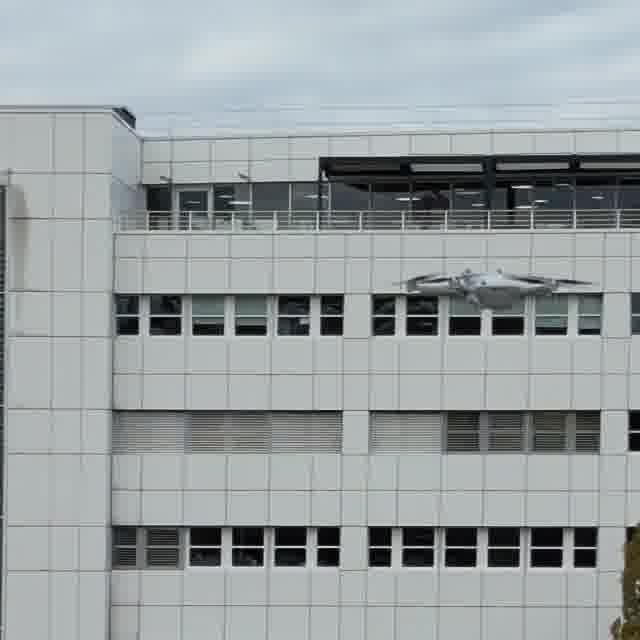Drohne: (394, 268, 593, 310)
